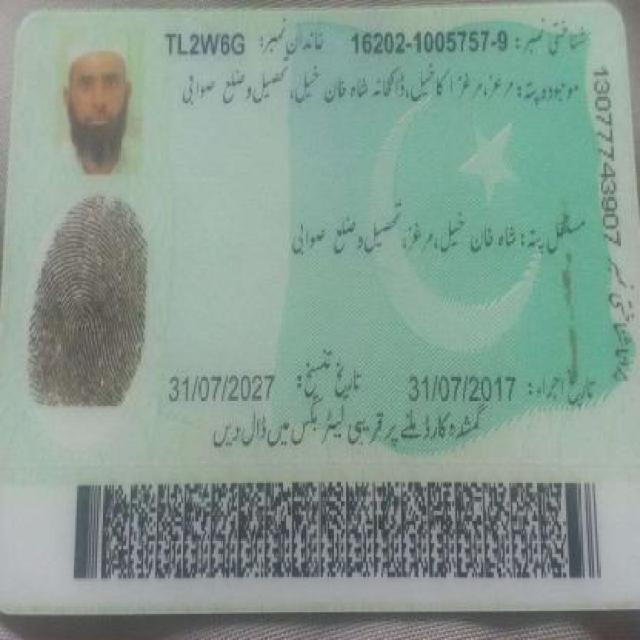Back: (9, 6, 623, 603)
